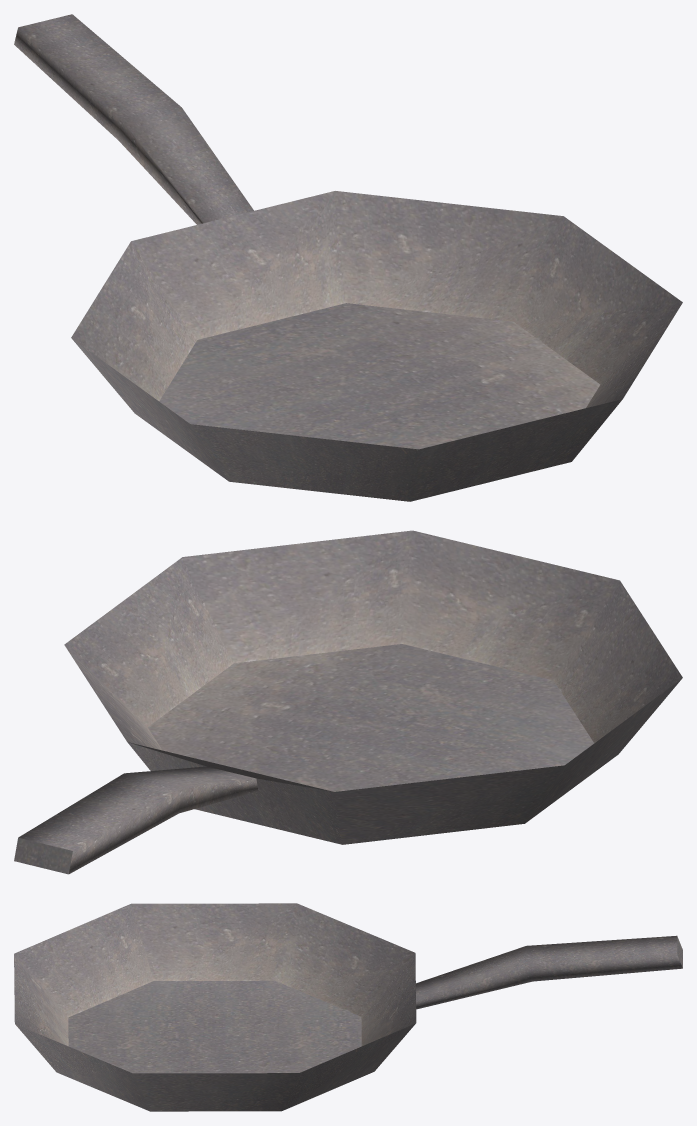
The model's file is M_Home_Garden_Pan_Frie_Pan.fbx.
3 renders of one model, top to bottom at view 1: azimuth 30°, elevation 25°; view 2: azimuth 150°, elevation 25°; view 3: azimuth 270°, elevation 25°, orthographic. The views are drawn at different scales.
Parts seen in each view (by area): view 1: M_Home_Garden_Pan_Frie_Pan; view 2: M_Home_Garden_Pan_Frie_Pan; view 3: M_Home_Garden_Pan_Frie_Pan.
Boxes of the visible parts, x1=… form: M_Home_Garden_Pan_Frie_Pan: x1=14, y1=14, x2=682, y2=501; M_Home_Garden_Pan_Frie_Pan: x1=14, y1=530, x2=682, y2=874; M_Home_Garden_Pan_Frie_Pan: x1=14, y1=903, x2=682, y2=1111.
Size of the model in its own units: 37.28 by 10.01 by 61.98.
